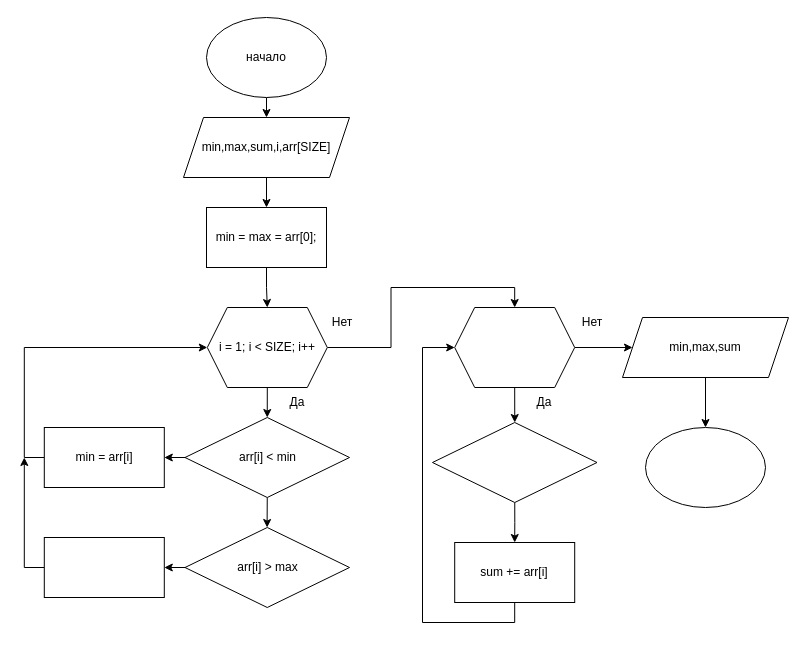
Some shapes in this 807 by 648 pixel diagram are drawn without their labels. Each missing label, with the centre of its shape:
arr[i] != min и arr[i] != max: the point at 514,462
i = 0; i < SIZE; i++: the point at 514,347
max = arr[i]: the point at 103,567
конец: the point at 705,467
